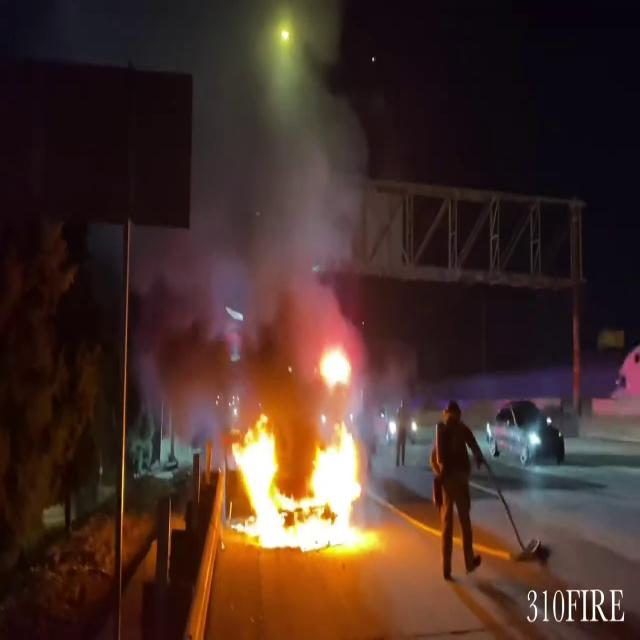Fire: (231, 397, 371, 558)
Smoke: (142, 76, 378, 432)
